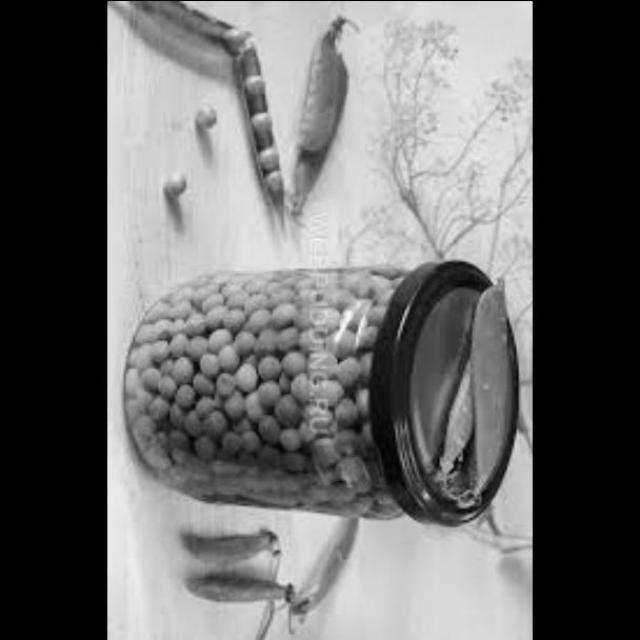peas: (136, 264, 407, 520), (416, 275, 533, 500), (275, 25, 359, 232), (246, 1, 286, 260), (176, 532, 292, 616), (294, 512, 374, 632), (130, 0, 257, 55), (181, 96, 223, 144), (162, 163, 196, 204)
